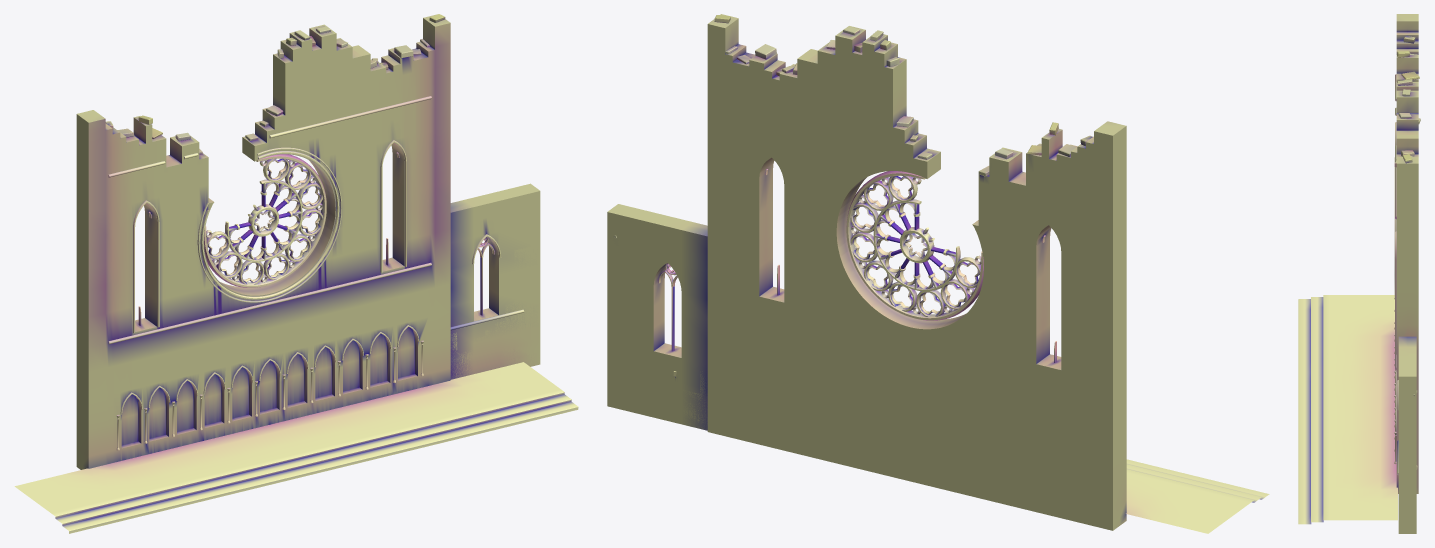
Rendered from east.glb.
3 views of the same model, side by side, from view 1: azimuth 30°, elevation 25°; view 2: azimuth 150°, elevation 25°; view 3: azimuth 270°, elevation 25° (orthographic). The views are drawn at different scales.
Visible parts, largest first — view 1: east_wall, dais, east_aisle, east_aisle_ruin; view 2: east_wall, east_aisle, dais, east_aisle_ruin; view 3: dais, east_wall, east_aisle.
Boxes of the visible parts, x1,y1,x2,y2 form: east_wall: [76, 14, 450, 469]; dais: [14, 362, 578, 533]; east_aisle: [450, 183, 540, 379]; east_aisle_ruin: [450, 214, 540, 378]; east_wall: [707, 14, 1126, 530]; east_aisle: [607, 204, 707, 430]; dais: [1126, 459, 1269, 533]; east_aisle_ruin: [607, 235, 707, 429]; dais: [1298, 295, 1397, 524]; east_wall: [1394, 14, 1420, 493]; east_aisle: [1397, 336, 1416, 533].
Size of the model in its own units: 40.03 by 28.07 by 8.86.
